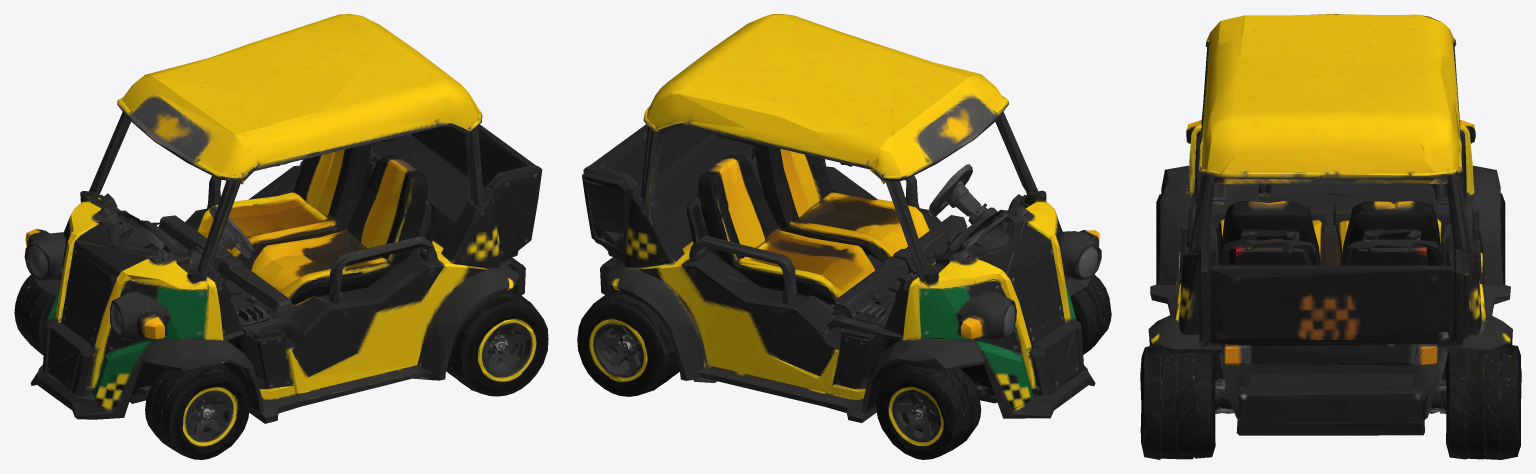
File: golf-kart.glb
The picture shows the model from 3 angles, left to right: view 1: azimuth 30°, elevation 25°; view 2: azimuth 150°, elevation 25°; view 3: azimuth 270°, elevation 25°; orthographic projection. The views are drawn at different scales.
Parts seen in each view (by area): view 1: output_unwrapped; view 2: output_unwrapped; view 3: output_unwrapped.
Boxes of the visible parts, bbox=[...] form: output_unwrapped: bbox=[14, 14, 548, 459]; output_unwrapped: bbox=[577, 14, 1111, 459]; output_unwrapped: bbox=[1140, 14, 1521, 459].
Bounding box in the file's own units: 2 × 1.31 × 1.38.
1 material, 1 textured.
